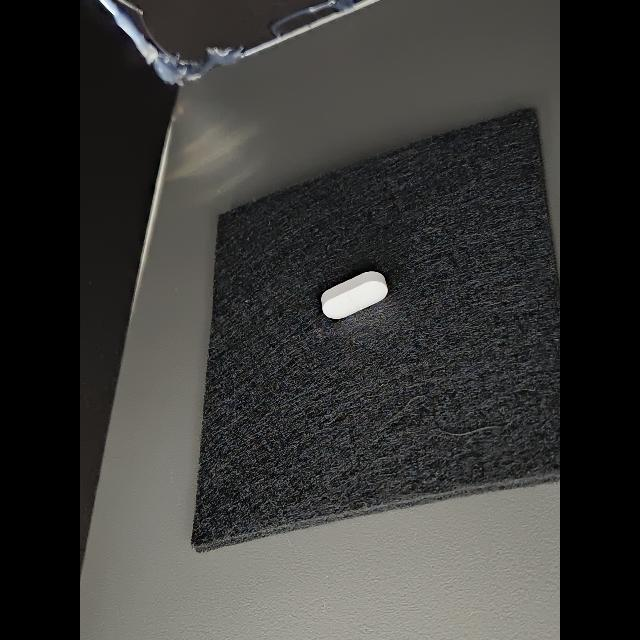Intact Pill: (321, 271, 388, 319)
